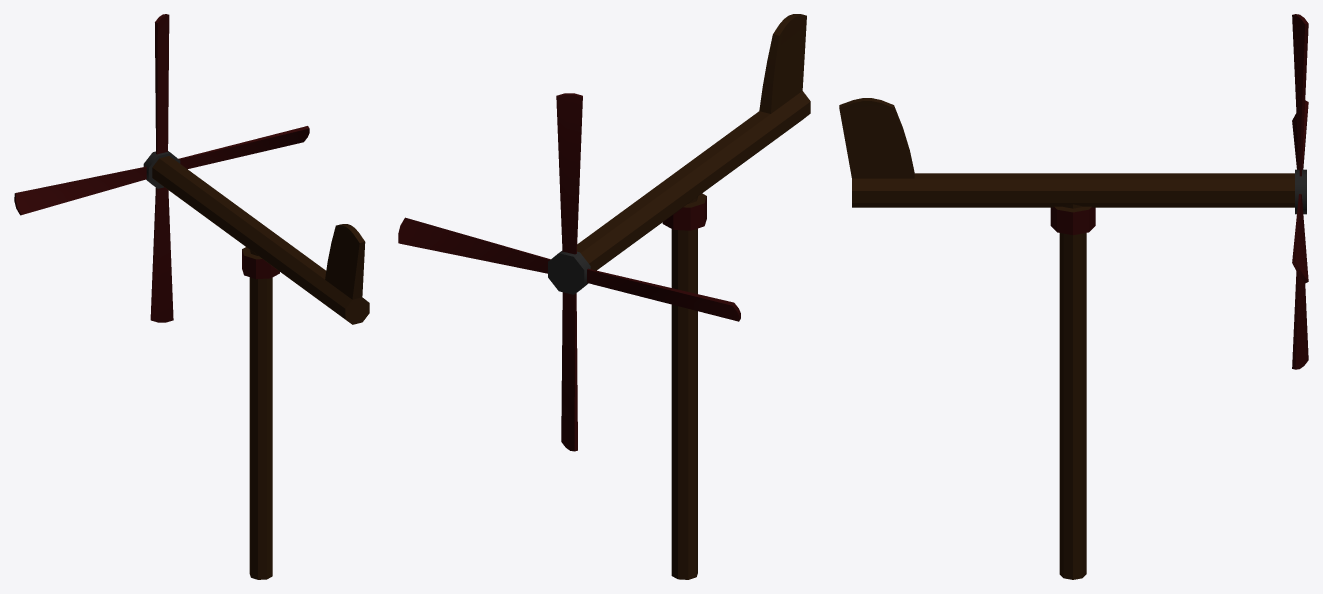
Rendered from MoulinéVent.fbx.
3 views of the same model, side by side, from view 1: azimuth 30°, elevation 25°; view 2: azimuth 150°, elevation 25°; view 3: azimuth 270°, elevation 25° (orthographic). The views are drawn at different scales.
Parts seen in each view (by area): view 1: Cylinder002, Cylinder003, Cylinder001; view 2: Cylinder003, Cylinder002, Cylinder001; view 3: Cylinder002, Cylinder001, Cylinder003.
Part boxes in pixels (x1,y1,x2,y2): Cylinder002: (152, 156, 369, 324); Cylinder003: (14, 14, 309, 322); Cylinder001: (242, 247, 279, 579); Cylinder003: (398, 93, 740, 451); Cylinder002: (577, 14, 810, 270); Cylinder001: (662, 193, 706, 579); Cylinder002: (839, 98, 1294, 207); Cylinder001: (1050, 204, 1095, 579); Cylinder003: (1292, 14, 1308, 369).
Size of the model in its own units: 95.21 by 152 by 116.
